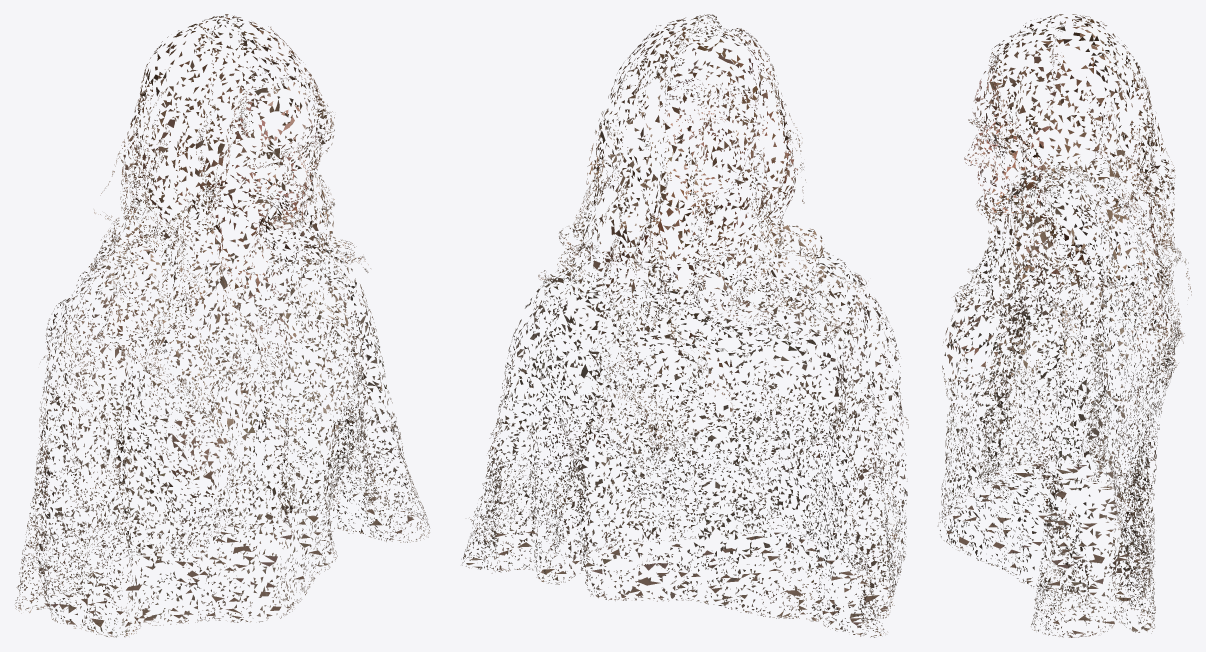
File: golden_gala_optimized.glb
3 renders of one model, left to right at view 1: azimuth 30°, elevation 25°; view 2: azimuth 150°, elevation 25°; view 3: azimuth 270°, elevation 25°, orthographic. The views are drawn at different scales.
Bounding box in the file's own units: 1.45 × 1.9 × 0.8373.
Materials: 1 (1 with a texture image).
